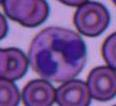N: (29, 24, 88, 80)
